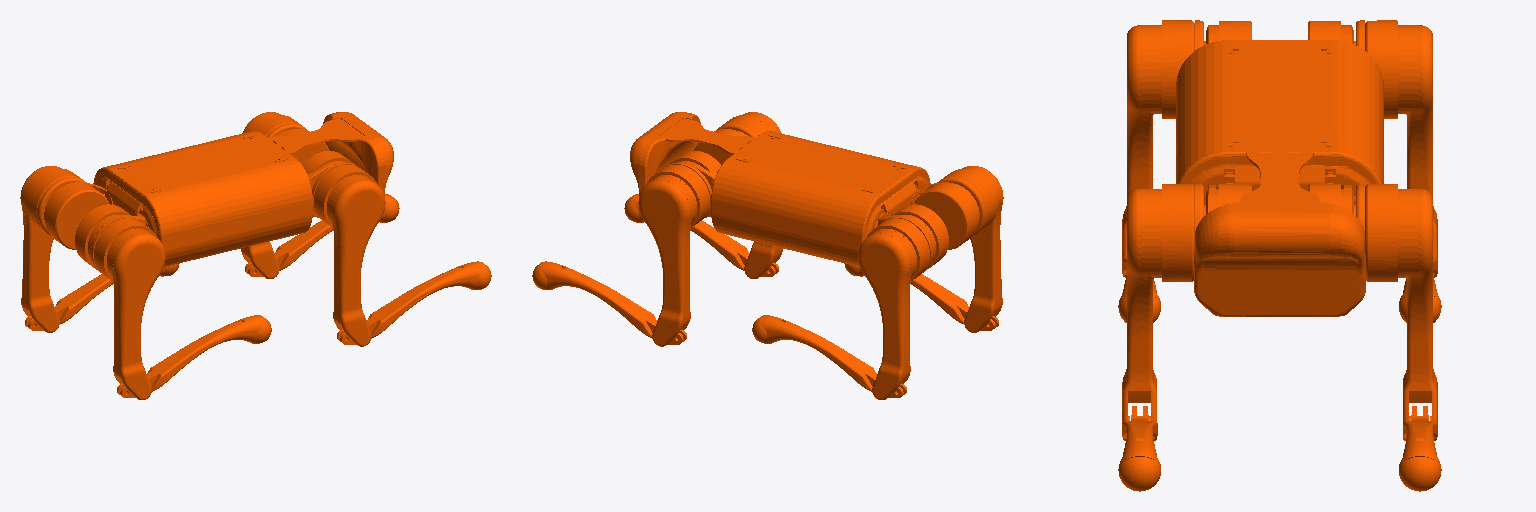
--- Facts derived from the render (not from the file) ---
Views: 3 orthographic renders of the robot side by side, from view 1: azimuth 30°, elevation 25°; view 2: azimuth 150°, elevation 25°; view 3: azimuth 270°, elevation 25°.
Model a1 with 23 links and 22 joints (12 revolute, 10 fixed), rooted at base, posed joints at zero except 4 at the middle of their limits (FR_calf_joint = -1.81, FL_calf_joint = -1.81, RR_calf_joint = -1.81, RL_calf_joint = -1.81).
Links seen in each view (by area): view 1: trunk, RR_thigh, FR_thigh, RL_thigh, RR_calf, FR_calf, RL_hip, FL_thigh, FL_calf, RL_calf, RR_hip, FR_hip; view 2: trunk, RL_thigh, FL_thigh, RR_thigh, RL_calf, FL_calf, RR_hip, FR_thigh, FR_calf, RR_calf, RL_hip, FL_hip; view 3: trunk, FL_thigh, FR_thigh, RR_thigh, RL_thigh, FR_calf, FL_calf, FR_hip, FL_hip, RR_hip, RL_hip, RR_calf (+1 smaller).
Link boxes in pixels (x1=…): trunk: x1=93, y1=112, x2=393, y2=266; RR_thigh: x1=91, y1=216, x2=165, y2=399; FR_thigh: x1=312, y1=163, x2=385, y2=346; RL_thigh: x1=20, y1=166, x2=86, y2=332; RR_calf: x1=117, y1=315, x2=271, y2=397; FR_calf: x1=337, y1=261, x2=491, y2=344; RL_hip: x1=44, y1=182, x2=113, y2=249; FL_thigh: x1=241, y1=112, x2=306, y2=278; FL_calf: x1=245, y1=194, x2=399, y2=276; RL_calf: x1=25, y1=263, x2=179, y2=330; RR_hip: x1=75, y1=204, x2=145, y2=269; FR_hip: x1=303, y1=151, x2=353, y2=217; trunk: x1=630, y1=112, x2=930, y2=266; RL_thigh: x1=858, y1=216, x2=932, y2=399; FL_thigh: x1=638, y1=163, x2=711, y2=346; RR_thigh: x1=937, y1=166, x2=1003, y2=332; RL_calf: x1=752, y1=315, x2=906, y2=397; FL_calf: x1=532, y1=261, x2=686, y2=344; RR_hip: x1=910, y1=182, x2=979, y2=249; FR_thigh: x1=717, y1=112, x2=782, y2=278; FR_calf: x1=624, y1=194, x2=778, y2=276; RR_calf: x1=844, y1=263, x2=998, y2=330; RL_hip: x1=878, y1=204, x2=948, y2=268; FL_hip: x1=670, y1=151, x2=720, y2=217; trunk: x1=1176, y1=40, x2=1383, y2=316; FL_thigh: x1=1354, y1=184, x2=1437, y2=440; FR_thigh: x1=1122, y1=184, x2=1205, y2=440; RR_thigh: x1=1122, y1=20, x2=1205, y2=277; RL_thigh: x1=1354, y1=20, x2=1437, y2=277; FR_calf: x1=1118, y1=406, x2=1160, y2=491; FL_calf: x1=1399, y1=406, x2=1441, y2=491; FR_hip: x1=1206, y1=184, x2=1251, y2=213; FL_hip: x1=1308, y1=184, x2=1353, y2=213; RR_hip: x1=1206, y1=21, x2=1251, y2=43; RL_hip: x1=1308, y1=21, x2=1353, y2=43; RR_calf: x1=1118, y1=257, x2=1160, y2=322.
Size in the robot's own frame: 0.6215 by 0.3016 by 0.272 metres.
13 mesh visuals loaded from 5 distinct referenced files (5 OBJ).

The robot description file, URDF, robot "a1":
<?xml version="1.0" encoding="utf-8"?>
<!-- =================================================================================== -->
<!-- |    This document was autogenerated by xacro from robot.xacro                    | -->
<!-- |    EDITING THIS FILE BY HAND IS NOT RECOMMENDED                                 | -->
<!-- =================================================================================== -->
<robot name="a1">
  <!-- dynamics inertial value -->
  <!-- trunk -->
  <!-- <xacro:property name="trunk_mass" value="5.660"/>
    <xacro:property name="trunk_com_x" value="0.012731"/>
    <xacro:property name="trunk_com_y" value="0.002186"/>
    <xacro:property name="trunk_com_z" value="0.000515"/>
    <xacro:property name="trunk_ixx" value="0.016839930"/>
    <xacro:property name="trunk_ixy" value="0.000083902"/>
    <xacro:property name="trunk_ixz" value="0.000597679"/>
    <xacro:property name="trunk_iyy" value="0.056579028"/>
    <xacro:property name="trunk_iyz" value="0.000025134"/>
    <xacro:property name="trunk_izz" value="0.064713601"/> -->
  <material name="black">
    <color rgba="0.0 0.0 0.0 1.0"/>
  </material>
  <material name="blue">
    <color rgba="0.0 0.0 0.8 1.0"/>
  </material>
  <material name="green">
    <color rgba="0.0 0.8 0.0 1.0"/>
  </material>
  <material name="grey">
    <color rgba="0.2 0.2 0.2 1.0"/>
  </material>
  <material name="silver">
    <color rgba="0.913725490196 0.913725490196 0.847058823529 1.0"/>
  </material>
  <material name="orange">
    <color rgba="1.0 0.423529411765 0.0392156862745 1.0"/>
  </material>
  <material name="brown">
    <color rgba="0.870588235294 0.811764705882 0.764705882353 1.0"/>
  </material>
  <material name="red">
    <color rgba="0.8 0.0 0.0 1.0"/>
  </material>
  <material name="white">
    <color rgba="1.0 1.0 1.0 1.0"/>
  </material>
  <!-- ros_control plugin -->
  <gazebo>
    <plugin filename="libgazebo_ros_control.so" name="gazebo_ros_control">
      <robotNamespace>/a1_gazebo</robotNamespace>
      <robotSimType>gazebo_ros_control/DefaultRobotHWSim</robotSimType>
    </plugin>
  </gazebo>
  <!-- Show the trajectory of trunk center. -->
  <gazebo>
    <plugin filename="libLinkPlot3DPlugin.so" name="3dplotTrunk">
      <frequency>10</frequency>
      <plot>
        <link>base</link>
        <pose>0 0 0 0 0 0</pose>
        <material>Gazebo/Yellow</material>
      </plot>
    </plugin>
  </gazebo>
  <!-- Show the trajectory of foot. You can add another trajectory about another foot. -->
  <gazebo>
    <plugin filename="libLinkPlot3DPlugin.so" name="3dplot">
      <frequency>1000</frequency>
      <plot>
        <link>FR_calf</link>
        <pose>0 0 -0.2 0 0 0</pose>
        <material>Gazebo/Yellow</material>
      </plot>
    </plugin>
  </gazebo>
  <gazebo>
    <plugin filename="libgazebo_ros_force.so" name="gazebo_ros_force">
      <bodyName>trunk</bodyName>
      <topicName>/apply_force/trunk</topicName>
    </plugin>
  </gazebo>
  <gazebo reference="imu_link">
    <gravity>true</gravity>
    <sensor name="imu_sensor" type="imu">
      <always_on>true</always_on>
      <update_rate>1000</update_rate>
      <visualize>true</visualize>
      <topic>__default_topic__</topic>
      <plugin filename="libgazebo_ros_imu_sensor.so" name="imu_plugin">
        <topicName>trunk_imu</topicName>
        <bodyName>imu_link</bodyName>
        <updateRateHZ>1000.0</updateRateHZ>
        <gaussianNoise>0.0</gaussianNoise>
        <xyzOffset>0 0 0</xyzOffset>
        <rpyOffset>0 0 0</rpyOffset>
        <frameName>imu_link</frameName>
      </plugin>
      <pose>0 0 0 0 0 0</pose>
    </sensor>
  </gazebo>
  <!-- Foot contacts. -->
  <gazebo reference="FR_calf">
    <sensor name="FR_foot_contact" type="contact">
      <update_rate>100</update_rate>
      <plugin filename="libunitreeFootContactPlugin.so" name="contactPlugin"/>
      <contact>
        <collision>FR_calf_fixed_joint_lump__FR_foot_collision_1</collision>
      </contact>
    </sensor>
  </gazebo>
  <gazebo reference="FL_calf">
    <sensor name="FL_foot_contact" type="contact">
      <update_rate>100</update_rate>
      <plugin filename="libunitreeFootContactPlugin.so" name="contactPlugin"/>
      <contact>
        <collision>FL_calf_fixed_joint_lump__FL_foot_collision_1</collision>
      </contact>
    </sensor>
  </gazebo>
  <gazebo reference="RR_calf">
    <sensor name="RR_foot_contact" type="contact">
      <update_rate>100</update_rate>
      <plugin filename="libunitreeFootContactPlugin.so" name="contactPlugin"/>
      <contact>
        <collision>RR_calf_fixed_joint_lump__RR_foot_collision_1</collision>
      </contact>
    </sensor>
  </gazebo>
  <gazebo reference="RL_calf">
    <sensor name="RL_foot_contact" type="contact">
      <update_rate>100</update_rate>
      <plugin filename="libunitreeFootContactPlugin.so" name="contactPlugin"/>
      <contact>
        <collision>RL_calf_fixed_joint_lump__RL_foot_collision_1</collision>
      </contact>
    </sensor>
  </gazebo>
  <!-- Visualization of Foot contacts. -->
  <gazebo reference="FR_foot">
    <visual>
      <plugin filename="libunitreeDrawForcePlugin.so" name="drawForcePlugin">
        <topicName>FR_foot_contact</topicName>
      </plugin>
    </visual>
  </gazebo>
  <gazebo reference="FL_foot">
    <visual>
      <plugin filename="libunitreeDrawForcePlugin.so" name="drawForcePlugin">
        <topicName>FL_foot_contact</topicName>
      </plugin>
    </visual>
  </gazebo>
  <gazebo reference="RR_foot">
    <visual>
      <plugin filename="libunitreeDrawForcePlugin.so" name="drawForcePlugin">
        <topicName>RR_foot_contact</topicName>
      </plugin>
    </visual>
  </gazebo>
  <gazebo reference="RL_foot">
    <visual>
      <plugin filename="libunitreeDrawForcePlugin.so" name="drawForcePlugin">
        <topicName>RL_foot_contact</topicName>
      </plugin>
    </visual>
  </gazebo>
  <gazebo reference="base">
    <material>Gazebo/Green</material>
    <turnGravityOff>false</turnGravityOff>
  </gazebo>
  <gazebo reference="trunk">
    <mu1>0.2</mu1>
    <mu2>0.2</mu2>
    <kp value="1000000.0"/>
    <kd value="1.0"/>
  </gazebo>
  <gazebo reference="stick_link">
    <mu1>0.2</mu1>
    <mu2>0.2</mu2>
    <material>Gazebo/White</material>
  </gazebo>
  <gazebo reference="imu_link">
    <mu1>0.2</mu1>
    <mu2>0.2</mu2>
    <material>Gazebo/Red</material>
  </gazebo>
  <!-- FL leg -->
  <gazebo reference="FL_hip">
    <mu1>0.2</mu1>
    <mu2>0.2</mu2>
    <material>Gazebo/DarkGrey</material>
  </gazebo>
  <gazebo reference="FL_thigh">
    <mu1>0.2</mu1>
    <mu2>0.2</mu2>
    <self_collide>1</self_collide>
    <material>Gazebo/DarkGrey</material>
    <kp value="1000000.0"/>
    <kd value="1.0"/>
  </gazebo>
  <gazebo reference="FL_calf">
    <mu1>0.2</mu1>
    <mu2>0.2</mu2>
    <self_collide>1</self_collide>
  </gazebo>
  <gazebo reference="FL_foot">
    <mu1>0.6</mu1>
    <mu2>0.6</mu2>
    <self_collide>1</self_collide>
    <material>Gazebo/DarkGrey</material>
    <kp value="1000000.0"/>
    <kd value="1.0"/>
  </gazebo>
  <!-- FR leg -->
  <gazebo reference="FR_hip">
    <mu1>0.2</mu1>
    <mu2>0.2</mu2>
    <material>Gazebo/DarkGrey</material>
  </gazebo>
  <gazebo reference="FR_thigh">
    <mu1>0.2</mu1>
    <mu2>0.2</mu2>
    <self_collide>1</self_collide>
    <material>Gazebo/DarkGrey</material>
    <kp value="1000000.0"/>
    <kd value="1.0"/>
  </gazebo>
  <gazebo reference="FR_calf">
    <mu1>0.2</mu1>
    <mu2>0.2</mu2>
    <self_collide>1</self_collide>
  </gazebo>
  <gazebo reference="FR_foot">
    <mu1>0.6</mu1>
    <mu2>0.6</mu2>
    <self_collide>1</self_collide>
    <material>Gazebo/DarkGrey</material>
    <kp value="1000000.0"/>
    <kd value="1.0"/>
  </gazebo>
  <!-- RL leg -->
  <gazebo reference="RL_hip">
    <mu1>0.2</mu1>
    <mu2>0.2</mu2>
    <material>Gazebo/DarkGrey</material>
  </gazebo>
  <gazebo reference="RL_thigh">
    <mu1>0.2</mu1>
    <mu2>0.2</mu2>
    <self_collide>1</self_collide>
    <material>Gazebo/DarkGrey</material>
    <kp value="1000000.0"/>
    <kd value="1.0"/>
  </gazebo>
  <gazebo reference="RL_calf">
    <mu1>0.2</mu1>
    <mu2>0.2</mu2>
    <self_collide>1</self_collide>
  </gazebo>
  <gazebo reference="RL_foot">
    <mu1>0.6</mu1>
    <mu2>0.6</mu2>
    <self_collide>1</self_collide>
    <material>Gazebo/DarkGrey</material>
    <kp value="1000000.0"/>
    <kd value="1.0"/>
  </gazebo>
  <!-- RR leg -->
  <gazebo reference="RR_hip">
    <mu1>0.2</mu1>
    <mu2>0.2</mu2>
    <material>Gazebo/DarkGrey</material>
  </gazebo>
  <gazebo reference="RR_thigh">
    <mu1>0.2</mu1>
    <mu2>0.2</mu2>
    <self_collide>1</self_collide>
    <material>Gazebo/DarkGrey</material>
    <kp value="1000000.0"/>
    <kd value="1.0"/>
  </gazebo>
  <gazebo reference="RR_calf">
    <mu1>0.2</mu1>
    <mu2>0.2</mu2>
    <self_collide>1</self_collide>
  </gazebo>
  <gazebo reference="RR_foot">
    <mu1>0.6</mu1>
    <mu2>0.6</mu2>
    <self_collide>1</self_collide>
    <material>Gazebo/DarkGrey</material>
    <kp value="1000000.0"/>
    <kd value="1.0"/>
  </gazebo>
  <!-- <xacro:include filename="$(find a1_gazebo)/launch/stairs.urdf.xacro"/> -->
  <!-- <xacro:stairs stairs="15" xpos="0" ypos="0" zpos="0" /> -->
  <!-- Debug mode will hung up the robot, use "true" or "false" to switch it. -->
  <!-- <xacro:if value="$(arg DEBUG)">
        <link name="world"/>
        <joint name="base_static_joint" type="fixed">
            <origin rpy="0 0 0" xyz="0 0 0"/>
            <parent link="world"/>
            <child link="base"/>
        </joint>
    </xacro:if>  -->
  <link name="base">
    <visual>
      <origin rpy="0 0 0" xyz="0 0 0"/>
      <geometry>
        <box size="0.001 0.001 0.001"/>
      </geometry>
    </visual>
  </link>
  <joint name="floating_base" type="fixed">
    <origin rpy="0 0 0" xyz="0 0 0"/>
    <parent link="base"/>
    <child link="trunk"/>
  </joint>
  <link name="trunk">
    <visual>
      <origin rpy="0 0 0" xyz="0 0 0"/>
      <geometry>
        <mesh filename="../meshes/trunk.obj" scale="1 1 1"/>
      </geometry>
      <material name="orange"/>
    </visual>
    <collision>
      <origin rpy="0 0 0" xyz="0 0 0"/>
      <geometry>
        <box size="0.267 0.194 0.114"/>
      </geometry>
    </collision>
    <inertial>
      <origin rpy="0 0 0" xyz="0.0 0.0041 -0.0005"/>
      <mass value="6.0"/>
      <inertia ixx="0.0158533" ixy="-3.66e-05" ixz="-6.11e-05" iyy="0.0377999" iyz="-2.75e-05" izz="0.0456542"/>
    </inertial>
  </link>
  <joint name="imu_joint" type="fixed">
    <parent link="trunk"/>
    <child link="imu_link"/>
    <origin rpy="0 0 0" xyz="0 0 0"/>
  </joint>
  <link name="imu_link">
    <inertial>
      <mass value="0.001"/>
      <origin rpy="0 0 0" xyz="0 0 0"/>
      <inertia ixx="0.0001" ixy="0" ixz="0" iyy="0.0001" iyz="0" izz="0.0001"/>
    </inertial>
    <visual>
      <origin rpy="0 0 0" xyz="0 0 0"/>
      <geometry>
        <box size="0.001 0.001 0.001"/>
      </geometry>
      <material name="red"/>
    </visual>
    <collision>
      <origin rpy="0 0 0" xyz="0 0 0"/>
      <geometry>
        <box size=".001 .001 .001"/>
      </geometry>
    </collision>
  </link>
  <joint name="FR_hip_joint" type="revolute">
    <origin rpy="0 0 0" xyz="0.1805 -0.047 0"/>
    <parent link="trunk"/>
    <child link="FR_hip"/>
    <axis xyz="1 0 0"/>
    <dynamics damping="0.01" friction="0.2"/>
    <limit effort="33.5" lower="-0.802851455917" upper="0.802851455917" velocity="21"/>
  </joint>
  <link name="FR_hip">
    <visual>
      <origin rpy="3.14159265359 0 0" xyz="0 0 0"/>
      <geometry>
        <mesh filename="../meshes/hip.obj" scale="1 1 1"/>
      </geometry>
      <material name="orange"/>
    </visual>
    <collision>
      <origin rpy="1.57079632679 0 0" xyz="0 0 0"/>
      <geometry>
        <cylinder length="0.04" radius="0.046"/>
      </geometry>
    </collision>
    <inertial>
      <origin rpy="0 0 0" xyz="-0.003311 -0.000635 3.1e-05"/>
      <mass value="0.696"/>
      <inertia ixx="0.000469246" ixy="9.409e-06" ixz="-3.42e-07" iyy="0.00080749" iyz="4.66e-07" izz="0.000552929"/>
    </inertial>
  </link>
  <joint name="FR_hip_fixed" type="fixed">
    <origin rpy="0 0 0" xyz="0 -0.081 0"/>
    <parent link="FR_hip"/>
    <child link="FR_thigh_shoulder"/>
  </joint>
  <!-- this link is only for collision -->
  <link name="FR_thigh_shoulder">
    <collision>
      <origin rpy="1.57079632679 0 0" xyz="0 0 0"/>
      <geometry>
        <cylinder length="0.032" radius="0.041"/>
      </geometry>
    </collision>
  </link>
  <joint name="FR_thigh_joint" type="revolute">
    <origin rpy="0 0 0" xyz="0 -0.0838 0"/>
    <parent link="FR_hip"/>
    <child link="FR_thigh"/>
    <axis xyz="0 1 0"/>
    <dynamics damping="0.01" friction="0.2"/>
    <limit effort="33.5" lower="-1.0471975512" upper="4.18879020479" velocity="21"/>
  </joint>
  <link name="FR_thigh">
    <visual>
      <origin rpy="0 0 0" xyz="0 0 0"/>
      <geometry>
        <mesh filename="../meshes/thigh_mirror.obj" scale="1 1 1"/>
      </geometry>
      <material name="orange"/>
    </visual>
    <collision>
      <origin rpy="0 1.57079632679 0" xyz="0 0 -0.1"/>
      <geometry>
        <box size="0.2 0.0245 0.034"/>
      </geometry>
    </collision>
    <inertial>
      <origin rpy="0 0 0" xyz="-0.003237 0.022327 -0.027326"/>
      <mass value="1.013"/>
      <inertia ixx="0.005529065" ixy="-4.825e-06" ixz="0.000343869" iyy="0.005139339" iyz="-2.2448e-05" izz="0.001367788"/>
    </inertial>
  </link>
  <joint name="FR_calf_joint" type="revolute">
    <origin rpy="0 0 0" xyz="0 0 -0.2"/>
    <parent link="FR_thigh"/>
    <child link="FR_calf"/>
    <axis xyz="0 1 0"/>
    <dynamics damping="0.01" friction="0.2"/>
    <limit effort="33.5" lower="-2.69653369433" upper="-0.916297857297" velocity="21"/>
  </joint>
  <link name="FR_calf">
    <visual>
      <origin rpy="0 0 0" xyz="0 0 0"/>
      <geometry>
        <mesh filename="../meshes/calf.obj" scale="1 1 1"/>
      </geometry>
      <material name="orange"/>
    </visual>
    <collision>
      <origin rpy="0 1.57079632679 0" xyz="0 0 -0.1"/>
      <geometry>
        <box size="0.2 0.016 0.016"/>
      </geometry>
    </collision>
    <inertial>
      <origin rpy="0 0 0" xyz="0.006435 0.0 -0.107388"/>
      <mass value="0.166"/>
      <inertia ixx="0.002997972" ixy="0.0" ixz="-0.000141163" iyy="0.003014022" iyz="0.0" izz="3.2426e-05"/>
    </inertial>
  </link>
  <joint name="FR_foot_fixed" type="fixed">
    <origin rpy="0 0 0" xyz="0 0 -0.2"/>
    <parent link="FR_calf"/>
    <child link="FR_foot"/>
  </joint>
  <link name="FR_foot">
    <visual>
      <origin rpy="0 0 0" xyz="0 0 0"/>
      <geometry>
        <sphere radius="0.01"/>
      </geometry>
      <material name="orange"/>
    </visual>
    <collision>
      <origin rpy="0 0 0" xyz="0 0 0"/>
      <geometry>
        <sphere radius="0.02"/>
      </geometry>
    </collision>
    <inertial>
      <mass value="0.06"/>
      <inertia ixx="9.6e-06" ixy="0.0" ixz="0.0" iyy="9.6e-06" iyz="0.0" izz="9.6e-06"/>
    </inertial>
  </link>
  <transmission name="FR_hip_tran">
    <type>transmission_interface/SimpleTransmission</type>
    <joint name="FR_hip_joint">
      <hardwareInterface>hardware_interface/EffortJointInterface</hardwareInterface>
    </joint>
    <actuator name="FR_hip_motor">
      <hardwareInterface>hardware_interface/EffortJointInterface</hardwareInterface>
      <mechanicalReduction>1</mechanicalReduction>
    </actuator>
  </transmission>
  <transmission name="FR_thigh_tran">
    <type>transmission_interface/SimpleTransmission</type>
    <joint name="FR_thigh_joint">
      <hardwareInterface>hardware_interface/EffortJointInterface</hardwareInterface>
    </joint>
    <actuator name="FR_thigh_motor">
      <hardwareInterface>hardware_interface/EffortJointInterface</hardwareInterface>
      <mechanicalReduction>1</mechanicalReduction>
    </actuator>
  </transmission>
  <transmission name="FR_calf_tran">
    <type>transmission_interface/SimpleTransmission</type>
    <joint name="FR_calf_joint">
      <hardwareInterface>hardware_interface/EffortJointInterface</hardwareInterface>
    </joint>
    <actuator name="FR_calf_motor">
      <hardwareInterface>hardware_interface/EffortJointInterface</hardwareInterface>
      <mechanicalReduction>1</mechanicalReduction>
    </actuator>
  </transmission>
  <joint name="FL_hip_joint" type="revolute">
    <origin rpy="0 0 0" xyz="0.1805 0.047 0"/>
    <parent link="trunk"/>
    <child link="FL_hip"/>
    <axis xyz="1 0 0"/>
    <dynamics damping="0.01" friction="0.2"/>
    <limit effort="33.5" lower="-0.802851455917" upper="0.802851455917" velocity="21"/>
  </joint>
  <link name="FL_hip">
    <visual>
      <origin rpy="0 0 0" xyz="0 0 0"/>
      <geometry>
        <mesh filename="../meshes/hip.obj" scale="1 1 1"/>
      </geometry>
      <material name="orange"/>
    </visual>
    <collision>
      <origin rpy="1.57079632679 0 0" xyz="0 0 0"/>
      <geometry>
        <cylinder length="0.04" radius="0.046"/>
      </geometry>
    </collision>
    <inertial>
      <origin rpy="0 0 0" xyz="-0.003311 0.000635 3.1e-05"/>
      <mass value="0.696"/>
      <inertia ixx="0.000469246" ixy="-9.409e-06" ixz="-3.42e-07" iyy="0.00080749" iyz="-4.66e-07" izz="0.000552929"/>
    </inertial>
  </link>
  <joint name="FL_hip_fixed" type="fixed">
    <origin rpy="0 0 0" xyz="0 0.081 0"/>
    <parent link="FL_hip"/>
    <child link="FL_thigh_shoulder"/>
  </joint>
  <!-- this link is only for collision -->
  <link name="FL_thigh_shoulder">
    <collision>
      <origin rpy="1.57079632679 0 0" xyz="0 0 0"/>
      <geometry>
        <cylinder length="0.032" radius="0.041"/>
      </geometry>
    </collision>
  </link>
  <joint name="FL_thigh_joint" type="revolute">
    <origin rpy="0 0 0" xyz="0 0.0838 0"/>
    <parent link="FL_hip"/>
    <child link="FL_thigh"/>
    <axis xyz="0 1 0"/>
    <dynamics damping="0.01" friction="0.2"/>
    <limit effort="33.5" lower="-1.0471975512" upper="4.18879020479" velocity="21"/>
  </joint>
  <link name="FL_thigh">
    <visual>
      <origin rpy="0 0 0" xyz="0 0 0"/>
      <geometry>
        <mesh filename="../meshes/thigh.obj" scale="1 1 1"/>
      </geometry>
      <material name="orange"/>
    </visual>
    <collision>
      <origin rpy="0 1.57079632679 0" xyz="0 0 -0.1"/>
      <geometry>
        <box size="0.2 0.0245 0.034"/>
      </geometry>
    </collision>
    <inertial>
      <origin rpy="0 0 0" xyz="-0.003237 -0.022327 -0.027326"/>
      <mass value="1.013"/>
      <inertia ixx="0.005529065" ixy="4.825e-06" ixz="0.000343869" iyy="0.005139339" iyz="2.2448e-05" izz="0.001367788"/>
    </inertial>
  </link>
  <joint name="FL_calf_joint" type="revolute">
    <origin rpy="0 0 0" xyz="0 0 -0.2"/>
    <parent link="FL_thigh"/>
    <child link="FL_calf"/>
    <axis xyz="0 1 0"/>
    <dynamics damping="0.01" friction="0.2"/>
    <limit effort="33.5" lower="-2.69653369433" upper="-0.916297857297" velocity="21"/>
  </joint>
  <link name="FL_calf">
    <visual>
      <origin rpy="0 0 0" xyz="0 0 0"/>
      <geometry>
        <mesh filename="../meshes/calf.obj" scale="1 1 1"/>
      </geometry>
      <material name="orange"/>
    </visual>
    <collision>
      <origin rpy="0 1.57079632679 0" xyz="0 0 -0.1"/>
      <geometry>
        <box size="0.2 0.016 0.016"/>
      </geometry>
    </collision>
    <inertial>
      <origin rpy="0 0 0" xyz="0.006435 0.0 -0.107388"/>
      <mass value="0.166"/>
      <inertia ixx="0.002997972" ixy="0.0" ixz="-0.000141163" iyy="0.003014022" iyz="0.0" izz="3.2426e-05"/>
    </inertial>
  </link>
  <joint name="FL_foot_fixed" type="fixed">
    <origin rpy="0 0 0" xyz="0 0 -0.2"/>
    <parent link="FL_calf"/>
    <child link="FL_foot"/>
  </joint>
  <link name="FL_foot">
    <visual>
      <origin rpy="0 0 0" xyz="0 0 0"/>
      <geometry>
        <sphere radius="0.01"/>
      </geometry>
      <material name="orange"/>
    </visual>
    <collision>
      <origin rpy="0 0 0" xyz="0 0 0"/>
      <geometry>
        <sphere radius="0.02"/>
      </geometry>
    </collision>
    <inertial>
      <mass value="0.06"/>
      <inertia ixx="9.6e-06" ixy="0.0" ixz="0.0" iyy="9.6e-06" iyz="0.0" izz="9.6e-06"/>
    </inertial>
  </link>
  <transmission name="FL_hip_tran">
    <type>transmission_interface/SimpleTransmission</type>
    <joint name="FL_hip_joint">
      <hardwareInterface>hardware_interface/EffortJointInterface</hardwareInterface>
    </joint>
    <actuator name="FL_hip_motor">
      <hardwareInterface>hardware_interface/EffortJointInterface</hardwareInterface>
      <mechanicalReduction>1</mechanicalReduction>
    </actuator>
  </transmission>
  <transmission name="FL_thigh_tran">
    <type>transmission_interface/SimpleTransmission</type>
    <joint name="FL_thigh_joint">
      <hardwareInterface>hardware_interface/EffortJointInterface</hardwareInterface>
    </joint>
    <actuator name="FL_thigh_motor">
      <hardwareInterface>hardware_interface/EffortJointInterface</hardwareInterface>
      <mechanicalReduction>1</mechanicalReduction>
    </actuator>
  </transmission>
  <transmission name="FL_calf_tran">
    <type>transmission_interface/SimpleTransmission</type>
    <joint name="FL_calf_joint">
      <hardwareInterface>hardware_interface/EffortJointInterface</hardwareInterface>
    </joint>
    <actuator name="FL_calf_motor">
      <hardwareInterface>hardware_interface/EffortJointInterface</hardwareInterface>
      <mechanicalReduction>1</mechanicalReduction>
    </actuator>
  </transmission>
  <joint name="RR_hip_joint" type="revolute">
    <origin rpy="0 0 0" xyz="-0.1805 -0.047 0"/>
    <parent link="trunk"/>
    <child link="RR_hip"/>
    <axis xyz="1 0 0"/>
    <dynamics damping="0.01" friction="0.2"/>
    <limit effort="33.5" lower="-0.802851455917" upper="0.802851455917" velocity="21"/>
  </joint>
  <link name="RR_hip">
    <visual>
      <origin rpy="3.14159265359 3.14159265359 0" xyz="0 0 0"/>
      <geometry>
        <mesh filename="../meshes/hip.obj" scale="1 1 1"/>
      </geometry>
      <material name="orange"/>
    </visual>
    <collision>
      <origin rpy="1.57079632679 0 0" xyz="0 0 0"/>
      <geometry>
        <cylinder length="0.04" radius="0.046"/>
      </geometry>
    </collision>
    <inertial>
      <origin rpy="0 0 0" xyz="0.003311 -0.000635 3.1e-05"/>
      <mass value="0.696"/>
      <inertia ixx="0.000469246" ixy="-9.409e-06" ixz="3.42e-07" iyy="0.00080749" iyz="4.66e-07" izz="0.000552929"/>
    </inertial>
  </link>
  <joint name="RR_hip_fixed" type="fixed">
    <origin rpy="0 0 0" xyz="0 -0.081 0"/>
    <parent link="RR_hip"/>
    <child link="RR_thigh_shoulder"/>
  </joint>
  <!-- this link is only for collision -->
  <link name="RR_thigh_shoulder">
    <collision>
      <origin rpy="1.57079632679 0 0" xyz="0 0 0"/>
      <geometry>
        <cylinder length="0.032" radius="0.041"/>
      </geometry>
    </collision>
  </link>
  <joint name="RR_thigh_joint" type="revolute">
    <origin rpy="0 0 0" xyz="0 -0.0838 0"/>
    <parent link="RR_hip"/>
    <child link="RR_thigh"/>
    <axis xyz="0 1 0"/>
    <dynamics damping="0.01" friction="0.2"/>
    <limit effort="33.5" lower="-1.0471975512" upper="4.18879020479" velocity="21"/>
  </joint>
  <link name="RR_thigh">
    <visual>
      <origin rpy="0 0 0" xyz="0 0 0"/>
      <geometry>
        <mesh filename="../meshes/thigh_mirror.obj" scale="1 1 1"/>
      </geometry>
      <material name="orange"/>
    </visual>
    <collision>
      <origin rpy="0 1.57079632679 0" xyz="0 0 -0.1"/>
      <geometry>
        <box size="0.2 0.0245 0.034"/>
      </geometry>
    </collision>
    <inertial>
      <origin rpy="0 0 0" xyz="-0.003237 0.022327 -0.027326"/>
      <mass value="1.013"/>
      <inertia ixx="0.005529065" ixy="-4.825e-06" ixz="0.000343869" iyy="0.005139339" iyz="-2.2448e-05" izz="0.001367788"/>
    </inertial>
  </link>
  <joint name="RR_calf_joint" type="revolute">
    <origin rpy="0 0 0" xyz="0 0 -0.2"/>
    <parent link="RR_thigh"/>
    <child link="RR_calf"/>
    <axis xyz="0 1 0"/>
    <dynamics damping="0.01" friction="0.2"/>
    <limit effort="33.5" lower="-2.69653369433" upper="-0.916297857297" velocity="21"/>
  </joint>
  <link name="RR_calf">
    <visual>
      <origin rpy="0 0 0" xyz="0 0 0"/>
      <geometry>
        <mesh filename="../meshes/calf.obj" scale="1 1 1"/>
      </geometry>
      <material name="orange"/>
    </visual>
    <collision>
      <origin rpy="0 1.57079632679 0" xyz="0 0 -0.1"/>
      <geometry>
        <box size="0.2 0.016 0.016"/>
      </geometry>
    </collision>
    <inertial>
      <origin rpy="0 0 0" xyz="0.006435 0.0 -0.107388"/>
      <mass value="0.166"/>
      <inertia ixx="0.002997972" ixy="0.0" ixz="-0.000141163" iyy="0.003014022" iyz="0.0" izz="3.2426e-05"/>
    </inertial>
  </link>
  <joint name="RR_foot_fixed" type="fixed">
    <origin rpy="0 0 0" xyz="0 0 -0.2"/>
    <parent link="RR_calf"/>
    <child link="RR_foot"/>
  </joint>
  <link name="RR_foot">
    <visual>
      <origin rpy="0 0 0" xyz="0 0 0"/>
      <geometry>
        <sphere radius="0.01"/>
      </geometry>
      <material name="orange"/>
    </visual>
    <collision>
      <origin rpy="0 0 0" xyz="0 0 0"/>
      <geometry>
        <sphere radius="0.02"/>
      </geometry>
    </collision>
    <inertial>
      <mass value="0.06"/>
      <inertia ixx="9.6e-06" ixy="0.0" ixz="0.0" iyy="9.6e-06" iyz="0.0" izz="9.6e-06"/>
    </inertial>
  </link>
  <transmission name="RR_hip_tran">
    <type>transmission_interface/SimpleTransmission</type>
    <joint name="RR_hip_joint">
      <hardwareInterface>hardware_interface/EffortJointInterface</hardwareInterface>
    </joint>
    <actuator name="RR_hip_motor">
      <hardwareInterface>hardware_interface/EffortJointInterface</hardwareInterface>
      <mechanicalReduction>1</mechanicalReduction>
    </actuator>
  </transmission>
  <transmission name="RR_thigh_tran">
    <type>transmission_interface/SimpleTransmission</type>
    <joint name="RR_thigh_joint">
      <hardwareInterface>hardware_interface/EffortJointInterface</hardwareInterface>
    </joint>
    <actuator name="RR_thigh_motor">
      <hardwareInterface>hardware_interface/EffortJointInterface</hardwareInterface>
      <mechanicalReduction>1</mechanicalReduction>
    </actuator>
  </transmission>
  <transmission name="RR_calf_tran">
    <type>transmission_interface/SimpleTransmission</type>
    <joint name="RR_calf_joint">
      <hardwareInterface>hardware_interface/EffortJointInterface</hardwareInterface>
    </joint>
    <actuator name="RR_calf_motor">
      <hardwareInterface>hardware_interface/EffortJointInterface</hardwareInterface>
      <mechanicalReduction>1</mechanicalReduction>
    </actuator>
  </transmission>
  <joint name="RL_hip_joint" type="revolute">
    <origin rpy="0 0 0" xyz="-0.1805 0.047 0"/>
    <parent link="trunk"/>
    <child link="RL_hip"/>
    <axis xyz="1 0 0"/>
    <dynamics damping="0.01" friction="0.2"/>
    <limit effort="33.5" lower="-0.802851455917" upper="0.802851455917" velocity="21"/>
  </joint>
  <link name="RL_hip">
    <visual>
      <origin rpy="0 3.14159265359 0" xyz="0 0 0"/>
      <geometry>
        <mesh filename="../meshes/hip.obj" scale="1 1 1"/>
      </geometry>
      <material name="orange"/>
    </visual>
    <collision>
      <origin rpy="1.57079632679 0 0" xyz="0 0 0"/>
      <geometry>
        <cylinder length="0.04" radius="0.046"/>
      </geometry>
    </collision>
    <inertial>
      <origin rpy="0 0 0" xyz="0.003311 0.000635 3.1e-05"/>
      <mass value="0.696"/>
      <inertia ixx="0.000469246" ixy="9.409e-06" ixz="3.42e-07" iyy="0.00080749" iyz="-4.66e-07" izz="0.000552929"/>
    </inertial>
  </link>
  <joint name="RL_hip_fixed" type="fixed">
    <origin rpy="0 0 0" xyz="0 0.081 0"/>
    <parent link="RL_hip"/>
    <child link="RL_thigh_shoulder"/>
  </joint>
  <!-- this link is only for collision -->
  <link name="RL_thigh_shoulder">
    <collision>
      <origin rpy="1.57079632679 0 0" xyz="0 0 0"/>
      <geometry>
        <cylinder length="0.032" radius="0.041"/>
      </geometry>
    </collision>
  </link>
  <joint name="RL_thigh_joint" type="revolute">
    <origin rpy="0 0 0" xyz="0 0.0838 0"/>
    <parent link="RL_hip"/>
    <child link="RL_thigh"/>
    <axis xyz="0 1 0"/>
    <dynamics damping="0.01" friction="0.2"/>
    <limit effort="33.5" lower="-1.0471975512" upper="4.18879020479" velocity="21"/>
  </joint>
  <link name="RL_thigh">
    <visual>
      <origin rpy="0 0 0" xyz="0 0 0"/>
      <geometry>
        <mesh filename="../meshes/thigh.obj" scale="1 1 1"/>
      </geometry>
      <material name="orange"/>
    </visual>
    <collision>
      <origin rpy="0 1.57079632679 0" xyz="0 0 -0.1"/>
      <geometry>
        <box size="0.2 0.0245 0.034"/>
      </geometry>
    </collision>
    <inertial>
      <origin rpy="0 0 0" xyz="-0.003237 -0.022327 -0.027326"/>
      <mass value="1.013"/>
      <inertia ixx="0.005529065" ixy="4.825e-06" ixz="0.000343869" iyy="0.005139339" iyz="2.2448e-05" izz="0.001367788"/>
    </inertial>
  </link>
  <joint name="RL_calf_joint" type="revolute">
    <origin rpy="0 0 0" xyz="0 0 -0.2"/>
    <parent link="RL_thigh"/>
    <child link="RL_calf"/>
    <axis xyz="0 1 0"/>
    <dynamics damping="0.01" friction="0.2"/>
    <limit effort="33.5" lower="-2.69653369433" upper="-0.916297857297" velocity="21"/>
  </joint>
  <link name="RL_calf">
    <visual>
      <origin rpy="0 0 0" xyz="0 0 0"/>
      <geometry>
        <mesh filename="../meshes/calf.obj" scale="1 1 1"/>
      </geometry>
      <material name="orange"/>
    </visual>
    <collision>
      <origin rpy="0 1.57079632679 0" xyz="0 0 -0.1"/>
      <geometry>
        <box size="0.2 0.016 0.016"/>
      </geometry>
    </collision>
    <inertial>
      <origin rpy="0 0 0" xyz="0.006435 0.0 -0.107388"/>
      <mass value="0.166"/>
      <inertia ixx="0.002997972" ixy="0.0" ixz="-0.000141163" iyy="0.003014022" iyz="0.0" izz="3.2426e-05"/>
    </inertial>
  </link>
  <joint name="RL_foot_fixed" type="fixed">
    <origin rpy="0 0 0" xyz="0 0 -0.2"/>
    <parent link="RL_calf"/>
    <child link="RL_foot"/>
  </joint>
  <link name="RL_foot">
    <visual>
      <origin rpy="0 0 0" xyz="0 0 0"/>
      <geometry>
        <sphere radius="0.01"/>
      </geometry>
      <material name="orange"/>
    </visual>
    <collision>
      <origin rpy="0 0 0" xyz="0 0 0"/>
      <geometry>
        <sphere radius="0.02"/>
      </geometry>
    </collision>
    <inertial>
      <mass value="0.06"/>
      <inertia ixx="9.6e-06" ixy="0.0" ixz="0.0" iyy="9.6e-06" iyz="0.0" izz="9.6e-06"/>
    </inertial>
  </link>
  <transmission name="RL_hip_tran">
    <type>transmission_interface/SimpleTransmission</type>
    <joint name="RL_hip_joint">
      <hardwareInterface>hardware_interface/EffortJointInterface</hardwareInterface>
    </joint>
    <actuator name="RL_hip_motor">
      <hardwareInterface>hardware_interface/EffortJointInterface</hardwareInterface>
      <mechanicalReduction>1</mechanicalReduction>
    </actuator>
  </transmission>
  <transmission name="RL_thigh_tran">
    <type>transmission_interface/SimpleTransmission</type>
    <joint name="RL_thigh_joint">
      <hardwareInterface>hardware_interface/EffortJointInterface</hardwareInterface>
    </joint>
    <actuator name="RL_thigh_motor">
      <hardwareInterface>hardware_interface/EffortJointInterface</hardwareInterface>
      <mechanicalReduction>1</mechanicalReduction>
    </actuator>
  </transmission>
  <transmission name="RL_calf_tran">
    <type>transmission_interface/SimpleTransmission</type>
    <joint name="RL_calf_joint">
      <hardwareInterface>hardware_interface/EffortJointInterface</hardwareInterface>
    </joint>
    <actuator name="RL_calf_motor">
      <hardwareInterface>hardware_interface/EffortJointInterface</hardwareInterface>
      <mechanicalReduction>1</mechanicalReduction>
    </actuator>
  </transmission>
  <!-- <xacro:stairs stairs="15" xpos="0" ypos="2.0" zpos="0" /> -->
</robot>
